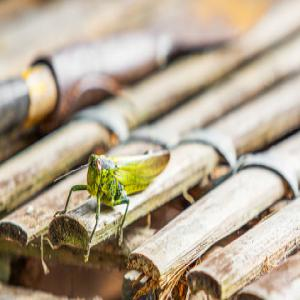locust: (64, 119, 180, 255)
